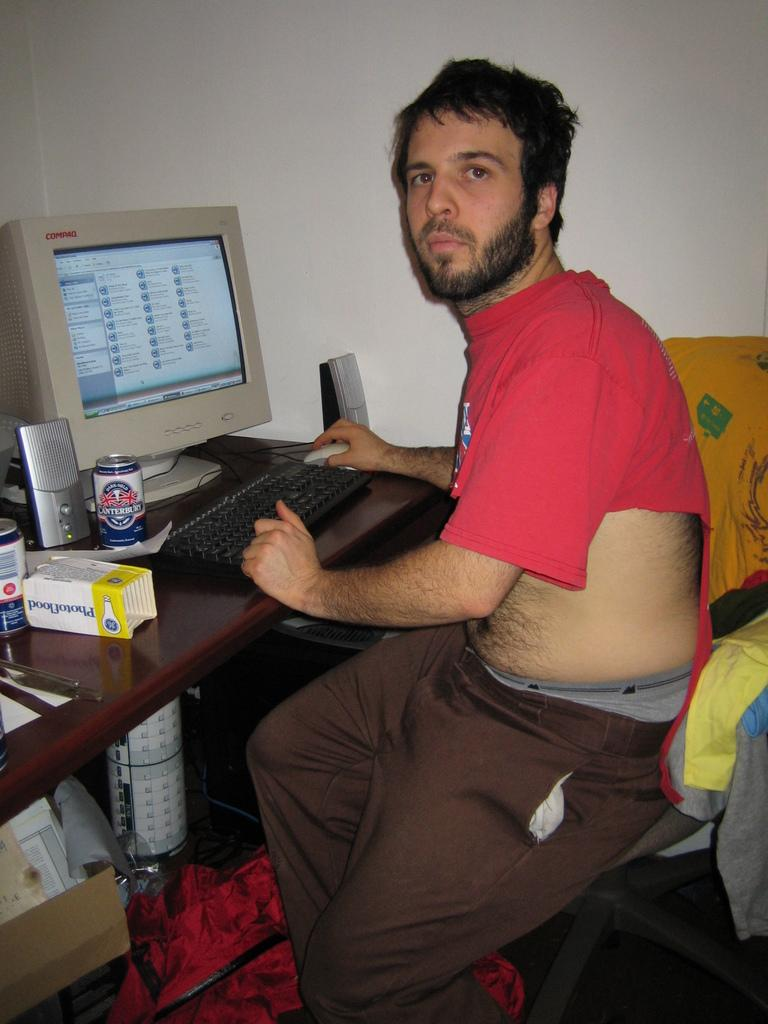Chair: (524, 334, 767, 1022)
Computer-monitor: (1, 202, 274, 505)
